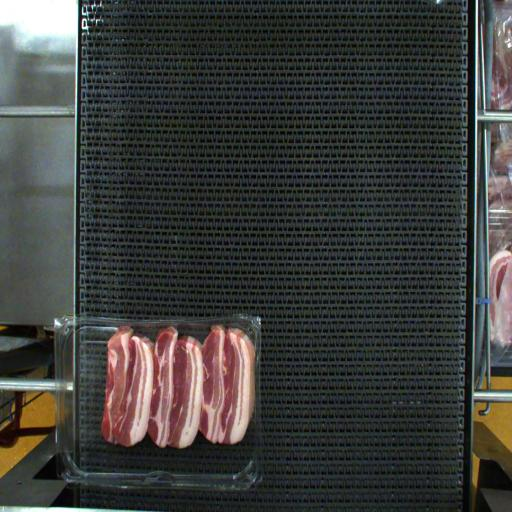packaging-error: (109, 310, 261, 358)
